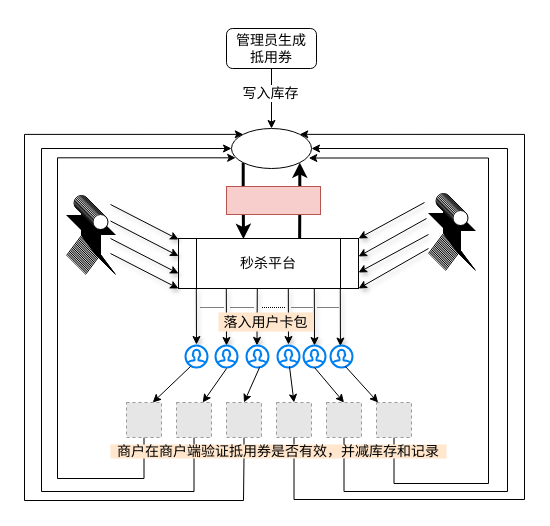
This 550x526 diagram has some shape labels left out. Grey dashed boxes stand in for pictures. Each missing label, with the centre of its shape:
100张: (271,148)
同步+限流: (273,200)
